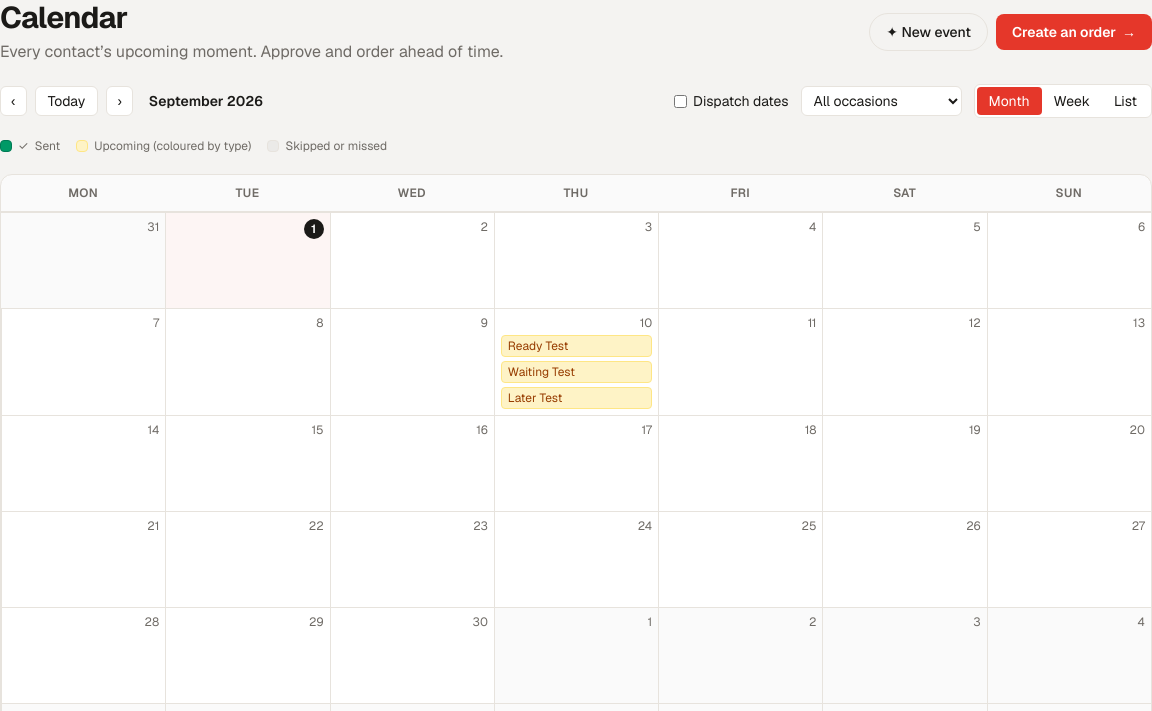
it: CalendarClient list view selection › select-all covers only what can be ordered, not the whole window
Click the button "list": (1126, 101) [1102,87,1149,115]
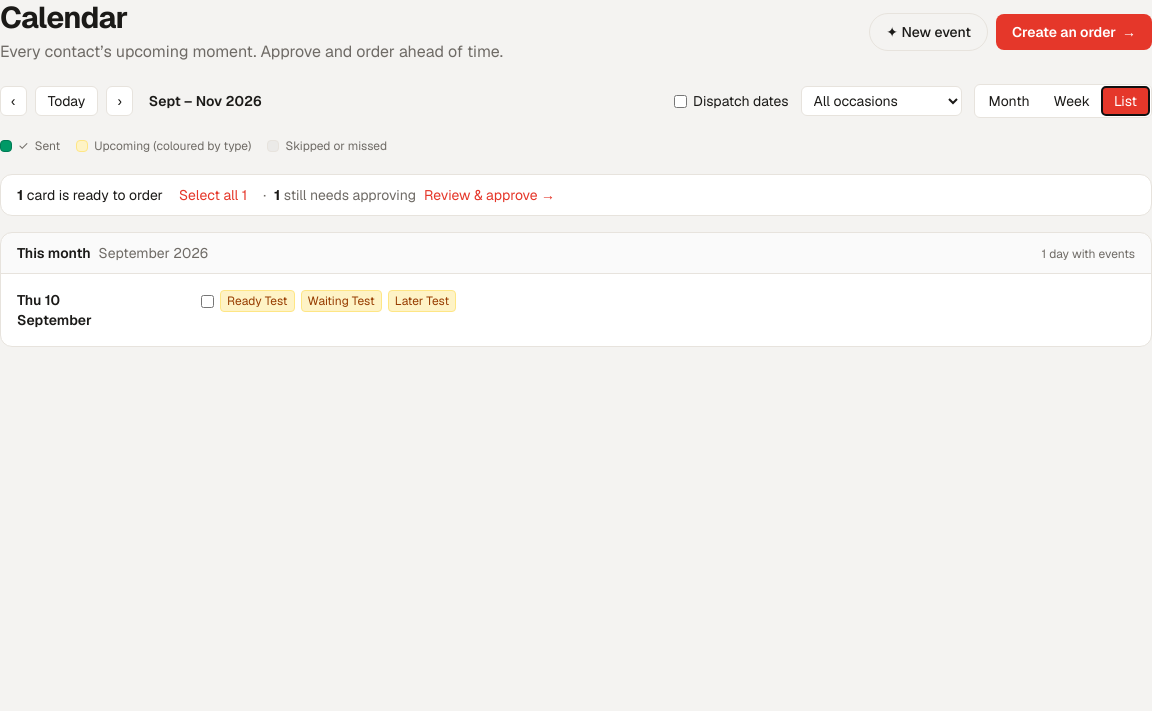
Click the button "Select all 1": (213, 195) [179,185,247,205]
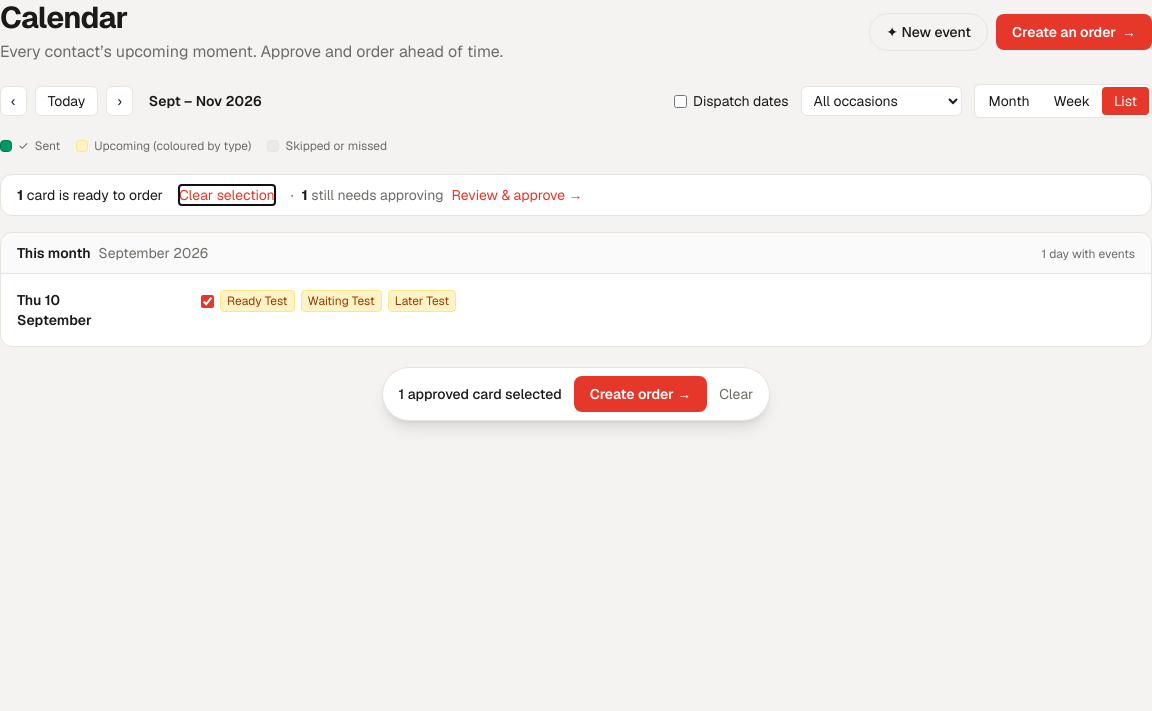
Check: the text "1 approved card selected" is shown, box [399,384,562,404]
